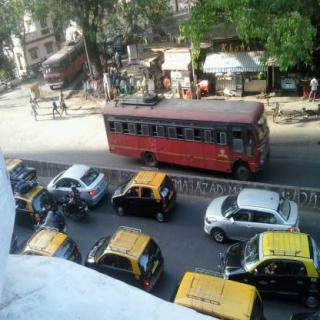Normal_vehicle: (103, 94, 268, 180)
